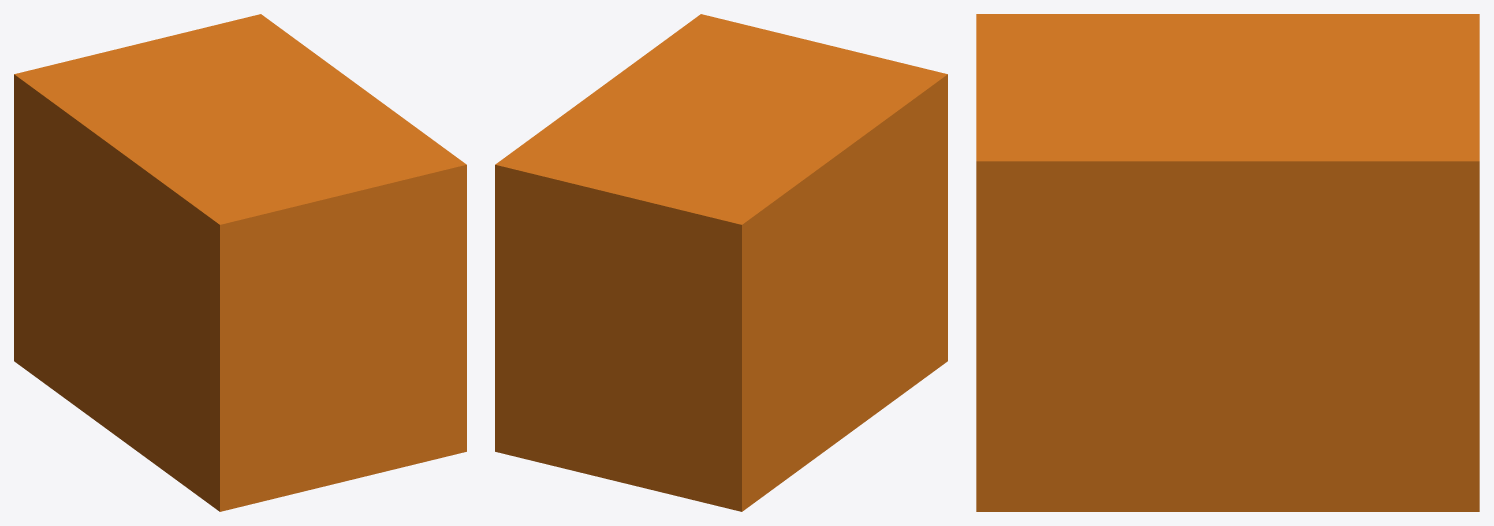
Rendered from void-station__escape_pod.obj.
3 views of the same model, side by side, from view 1: azimuth 30°, elevation 25°; view 2: azimuth 150°, elevation 25°; view 3: azimuth 270°, elevation 25° (orthographic). The views are drawn at different scales.
Visible parts, largest first — view 1: shell; view 2: shell; view 3: shell.
Boxes of the visible parts, bbox=[...] form: shell: bbox=[14, 14, 466, 511]; shell: bbox=[495, 14, 947, 511]; shell: bbox=[976, 14, 1479, 511].
Bounding box in the file's own units: 0.9 × 1 × 1.3.
